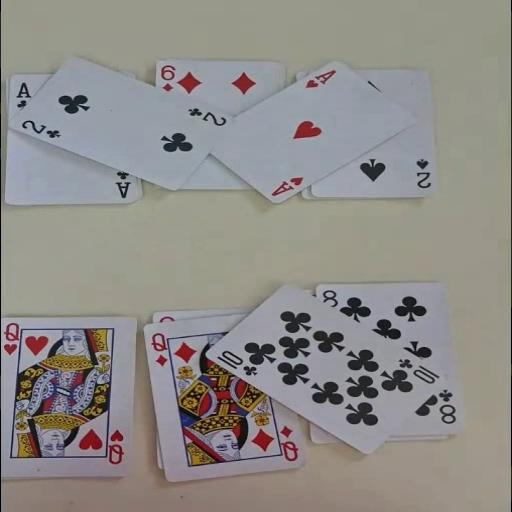10: (213, 348, 260, 377), (396, 356, 442, 385), (275, 423, 300, 462)
2: (185, 106, 229, 127), (19, 118, 62, 139), (414, 157, 432, 189)
6: (158, 64, 176, 92)
8: (436, 388, 457, 425), (320, 288, 340, 309)
A: (268, 174, 305, 198), (302, 67, 338, 89), (114, 169, 132, 199), (14, 81, 32, 109)
Q: (276, 423, 300, 462), (147, 330, 169, 368), (105, 427, 126, 465), (2, 320, 21, 357)
